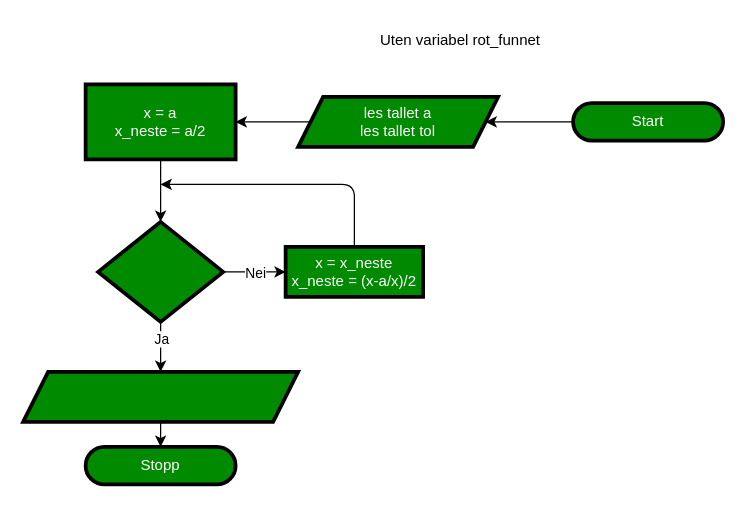
Image size: 746x508. Some labels were removed from this diagram. Here are the shapes that lost their labels. From the top down, the centre of each, then its label:
(x=160, y=271): |x_neste-x| < tol
(x=160, y=396): skriv "kvadrat rot av a er x_neste"
